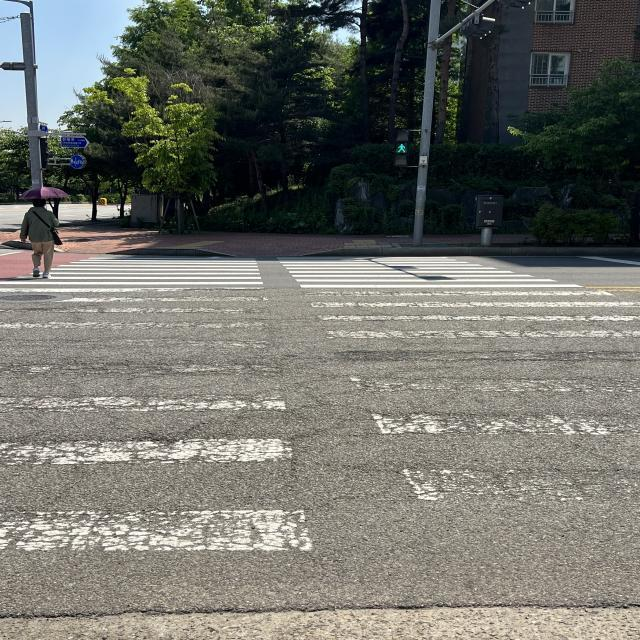crosswalk: (0, 249, 640, 640)
geen-crossing: (386, 125, 416, 171)
